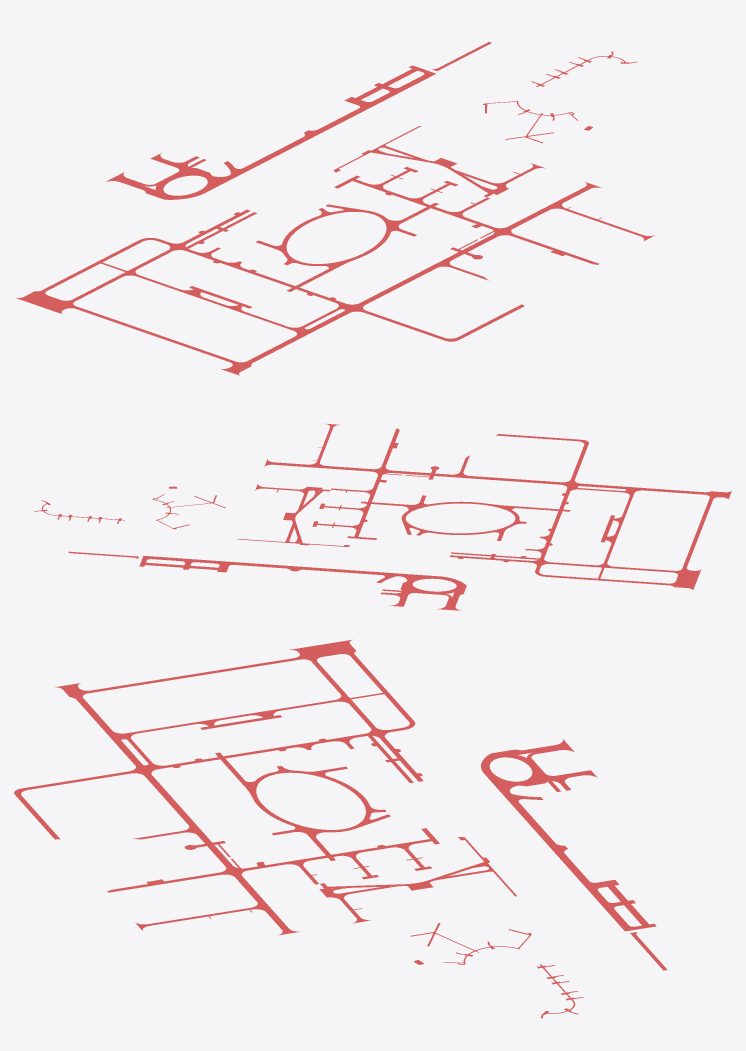
The model's file is transport.glb.
3 views of the same model, one above another, from view 1: azimuth 30°, elevation 25°; view 2: azimuth 150°, elevation 25°; view 3: azimuth 270°, elevation 25° (orthographic). The views are drawn at different scales.
Bounding box in the file's own units: 859 × 0 × 656.
